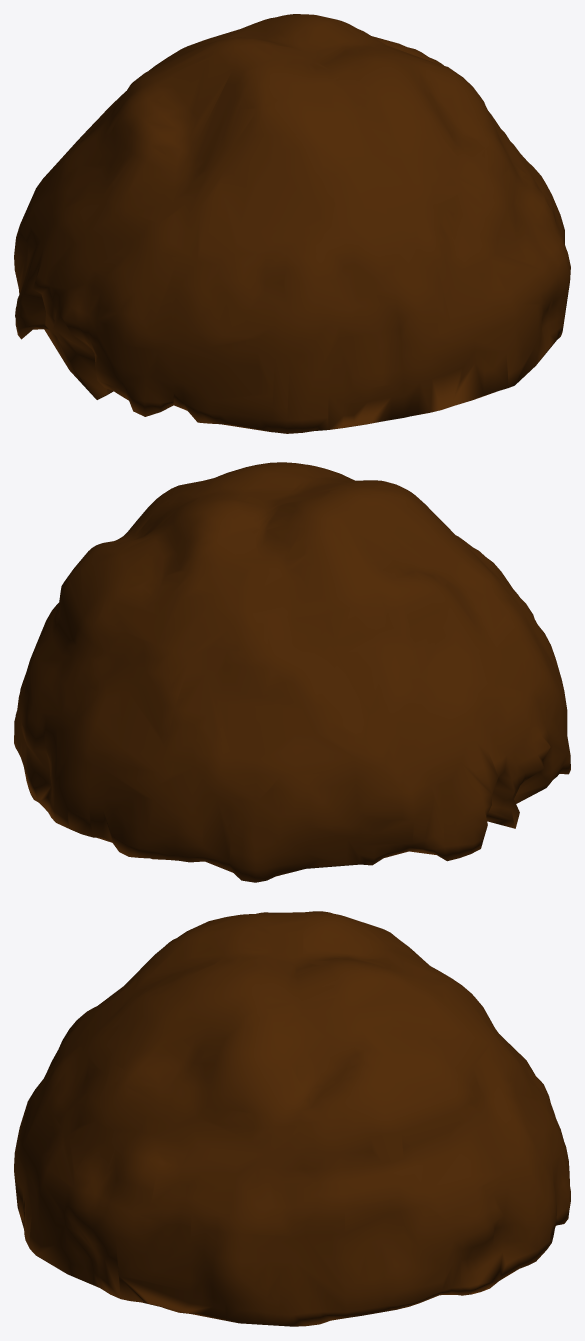
File: sauce.gltf
The picture shows the model from 3 angles, top to bottom: view 1: azimuth 30°, elevation 25°; view 2: azimuth 150°, elevation 25°; view 3: azimuth 270°, elevation 25°; orthographic projection.
Visible parts, largest first — view 1: Sphere; view 2: Sphere; view 3: Sphere.
Boxes of the visible parts, left/top/right/bottom form: Sphere: left=14, top=14, right=570, bottom=433; Sphere: left=14, top=462, right=570, bottom=882; Sphere: left=14, top=911, right=570, bottom=1326.
Bounding box in the file's own units: 1.21 × 0.7082 × 1.2.
